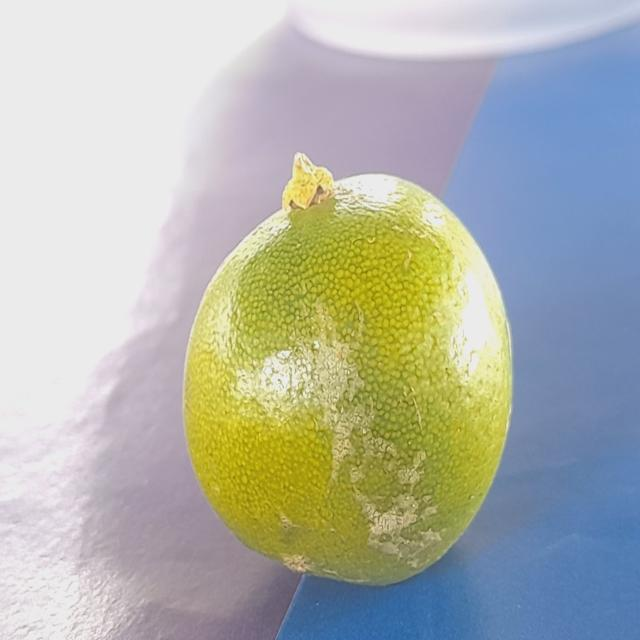thrips: (171, 136, 543, 574)
